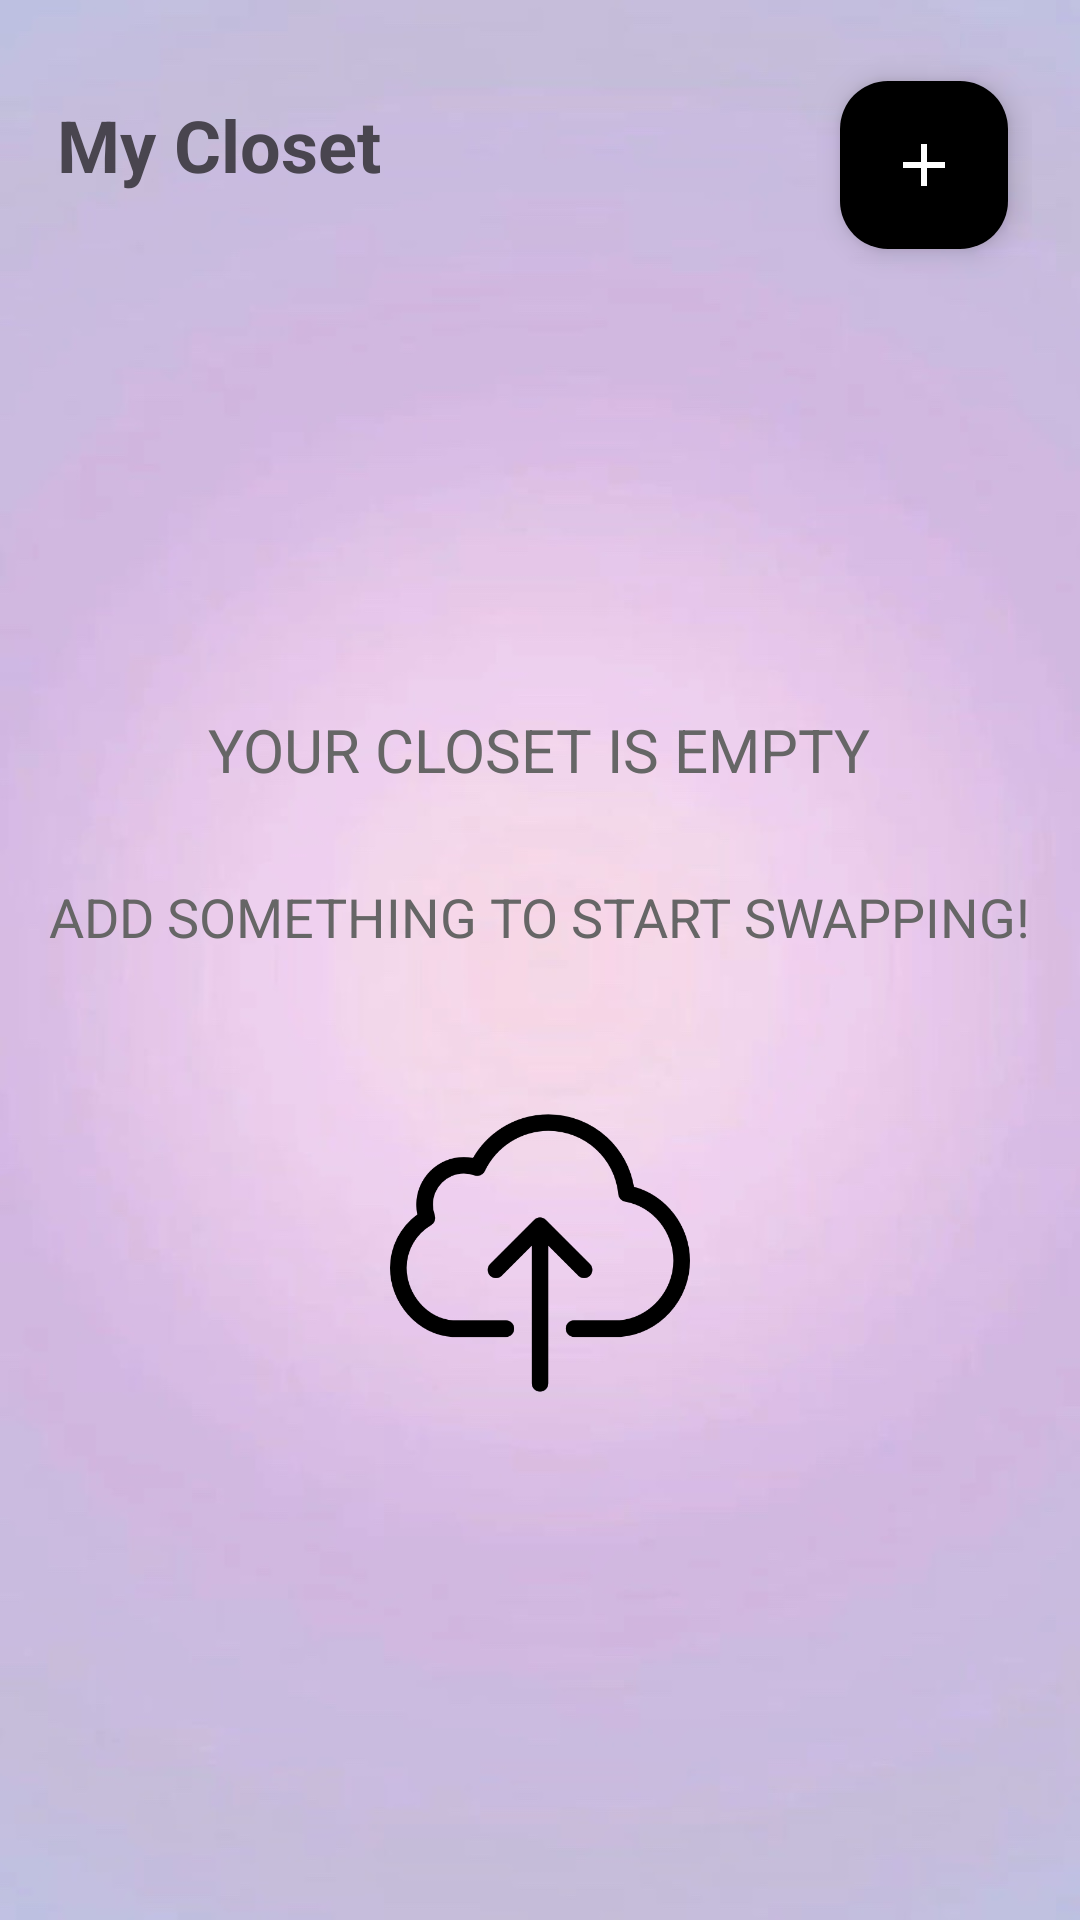

Named icons in this screenshot (1080px x 1920px) and their centers, point (x, y):
Add item: point (924, 165)
Upload button: point (540, 1247)
